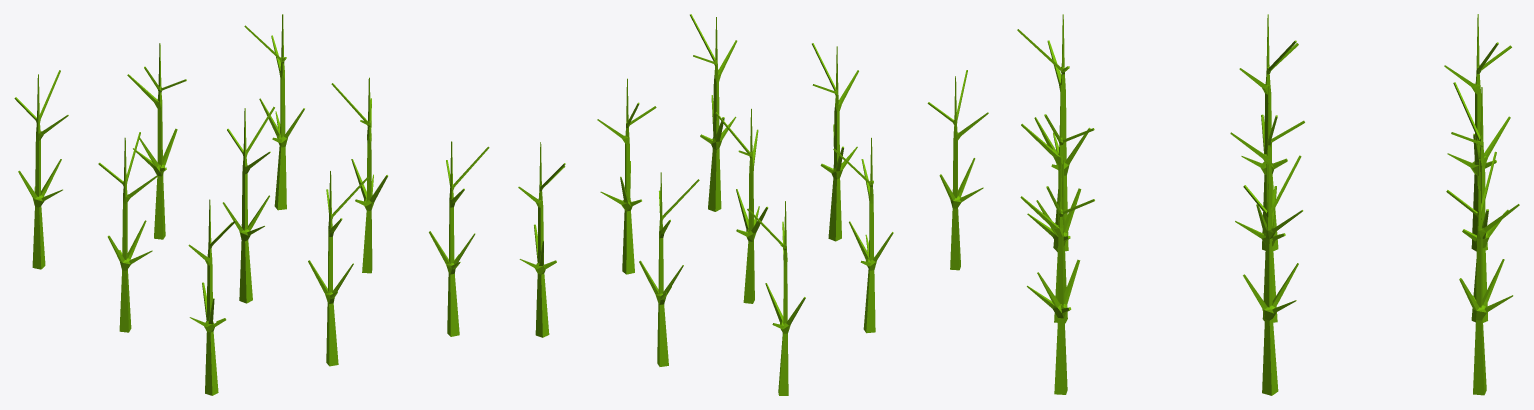
Rendered from corn_medium_plant.glb.
The picture shows the model from 3 angles, left to right: view 1: azimuth 30°, elevation 25°; view 2: azimuth 150°, elevation 25°; view 3: azimuth 270°, elevation 25°; orthographic projection. The views are drawn at different scales.
Visible parts, largest first — view 1: CornMediumPlant; view 2: CornMediumPlant; view 3: CornMediumPlant.
Boxes of the visible parts, x1,y1,x2,y2 form: CornMediumPlant: (14, 14, 489, 395); CornMediumPlant: (518, 14, 988, 395); CornMediumPlant: (1017, 14, 1519, 395).
Size of the model in its own units: 0.7003 by 0.4307 by 0.837.
